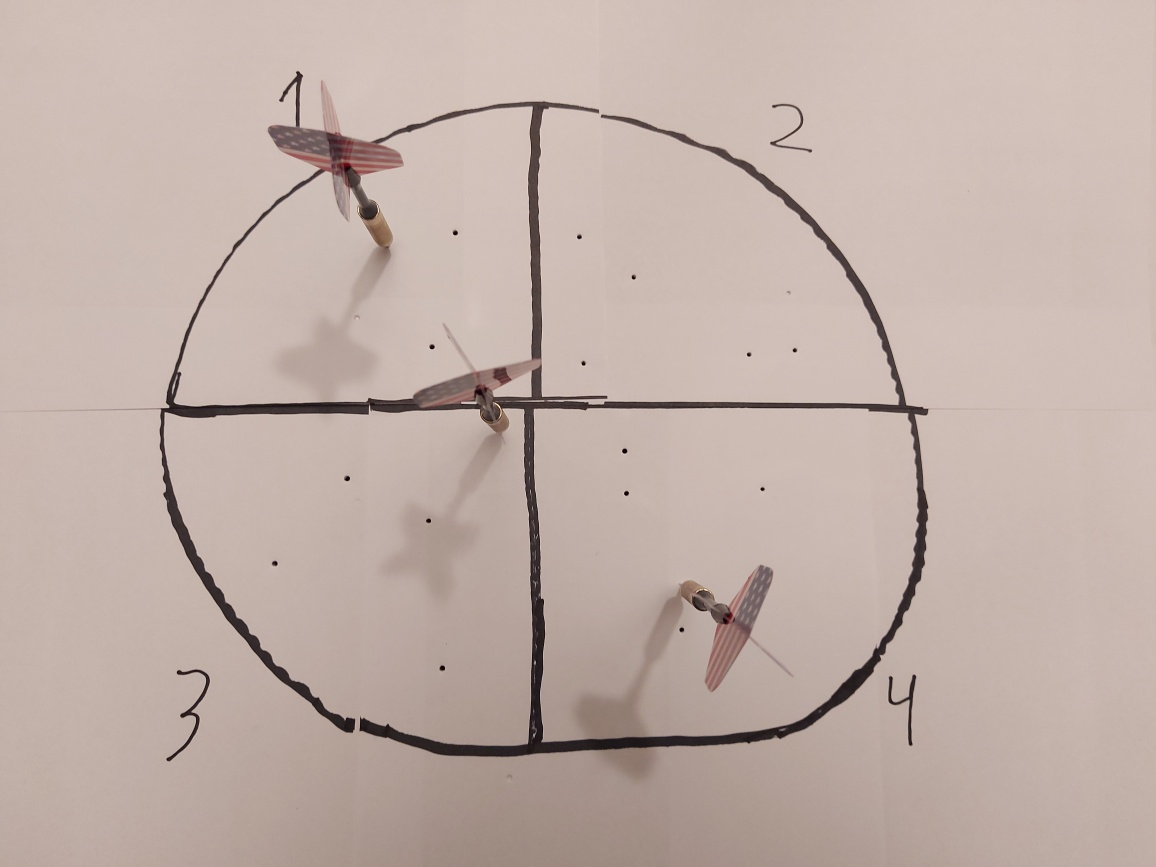Dart: (262, 76, 411, 265), (406, 314, 546, 453), (671, 556, 802, 692)
